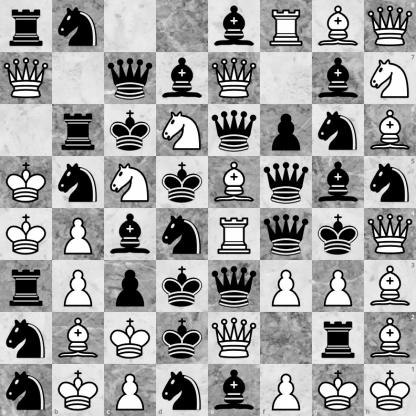B: (364, 104, 416, 156), (364, 260, 416, 312), (364, 312, 416, 364), (53, 313, 104, 364), (209, 157, 260, 208), (313, 1, 364, 52)
K: (52, 364, 104, 416), (312, 364, 364, 416), (364, 364, 416, 416), (1, 157, 52, 208), (1, 209, 52, 260), (105, 313, 156, 364)
N: (364, 52, 416, 104), (105, 157, 156, 208), (157, 105, 208, 156)
P: (104, 364, 156, 416), (260, 364, 312, 416), (53, 209, 104, 260), (53, 261, 104, 312), (261, 261, 312, 312), (313, 261, 364, 312)
Q: (364, 0, 416, 52), (364, 209, 416, 260), (1, 53, 52, 104), (209, 53, 260, 104), (209, 313, 260, 364)
R: (209, 209, 260, 260), (261, 1, 312, 52)
b: (209, 364, 260, 416), (105, 209, 156, 260), (157, 53, 208, 104), (209, 1, 260, 52), (313, 53, 364, 104), (313, 157, 364, 208)
board: (0, 0, 415, 415)
k: (105, 105, 156, 156), (157, 157, 208, 208), (157, 261, 208, 312), (157, 313, 208, 364), (313, 209, 364, 260)
n: (156, 364, 209, 416), (364, 156, 416, 209), (0, 364, 52, 416), (1, 313, 52, 364), (53, 1, 104, 52), (53, 157, 104, 208), (157, 209, 208, 260), (313, 105, 364, 156)
p: (105, 261, 156, 312), (261, 105, 312, 156)
q: (105, 53, 156, 104), (209, 105, 260, 156), (209, 261, 260, 312), (261, 157, 312, 208), (261, 209, 312, 260)
r: (1, 1, 52, 52), (1, 261, 52, 312), (53, 105, 104, 156), (313, 313, 364, 364)
